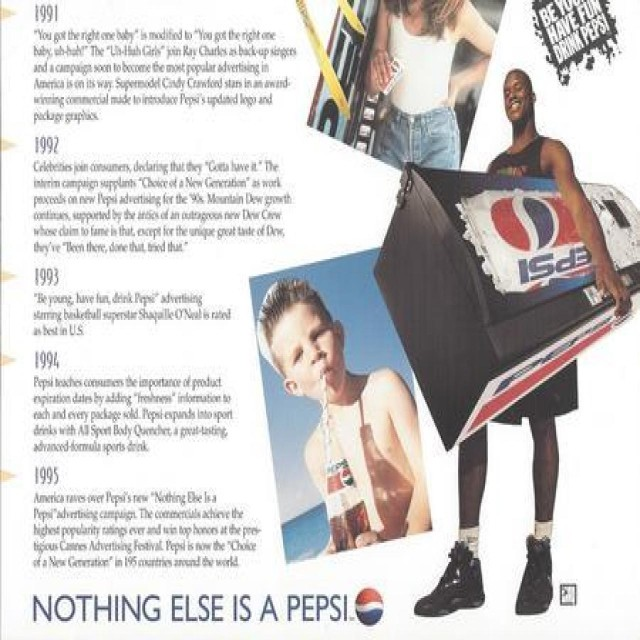pepsi: (491, 194, 557, 252), (352, 585, 386, 627)
